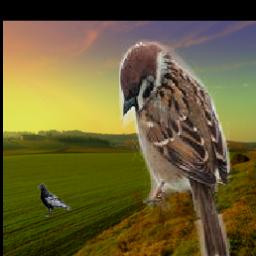Crow: (38, 183, 71, 217)
Sparrow: (119, 39, 232, 256)
